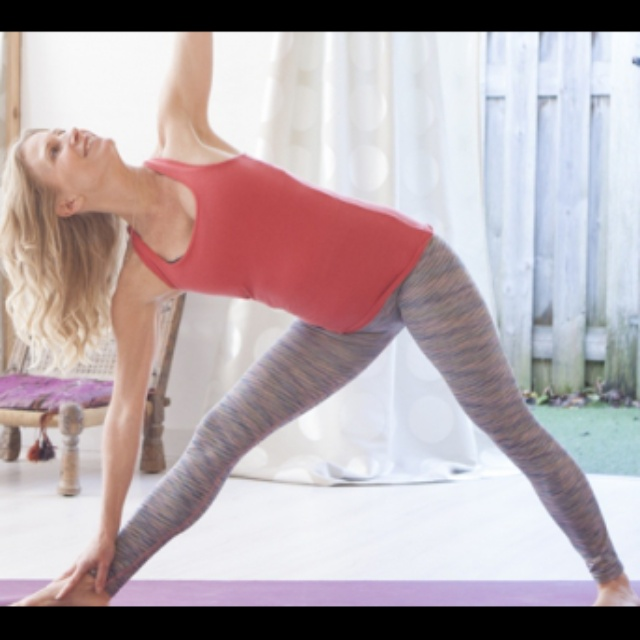Triangle_Pose: (1, 34, 638, 609)
